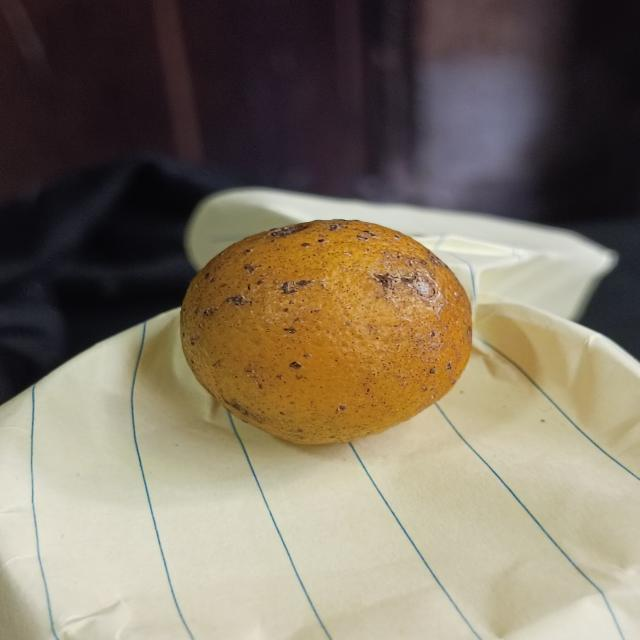black spot: (177, 219, 473, 451)
